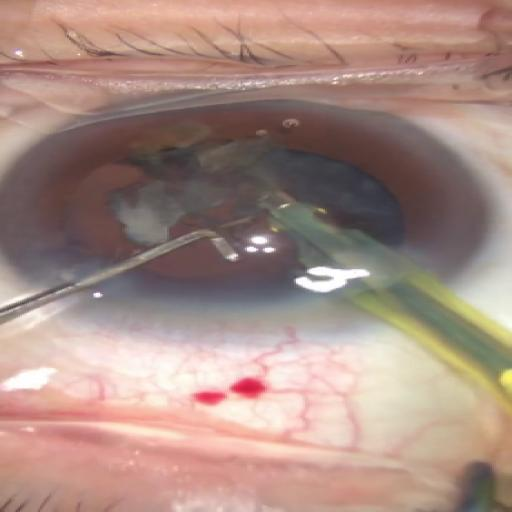cornea: (0, 100, 466, 338)
pupil: (55, 142, 413, 307)
